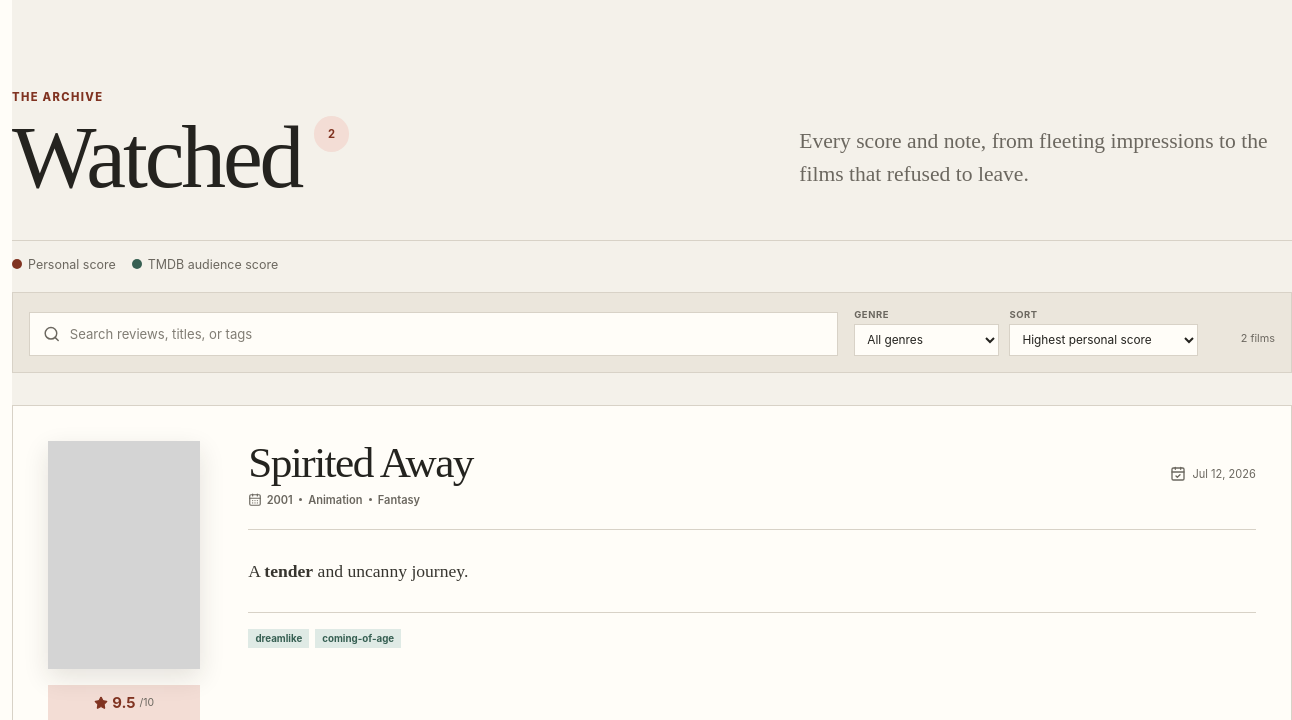
it: journal views › searches the watched archive across review content
Type "dreamlike" into the search field at point(447, 334), box [70, 326, 824, 342]
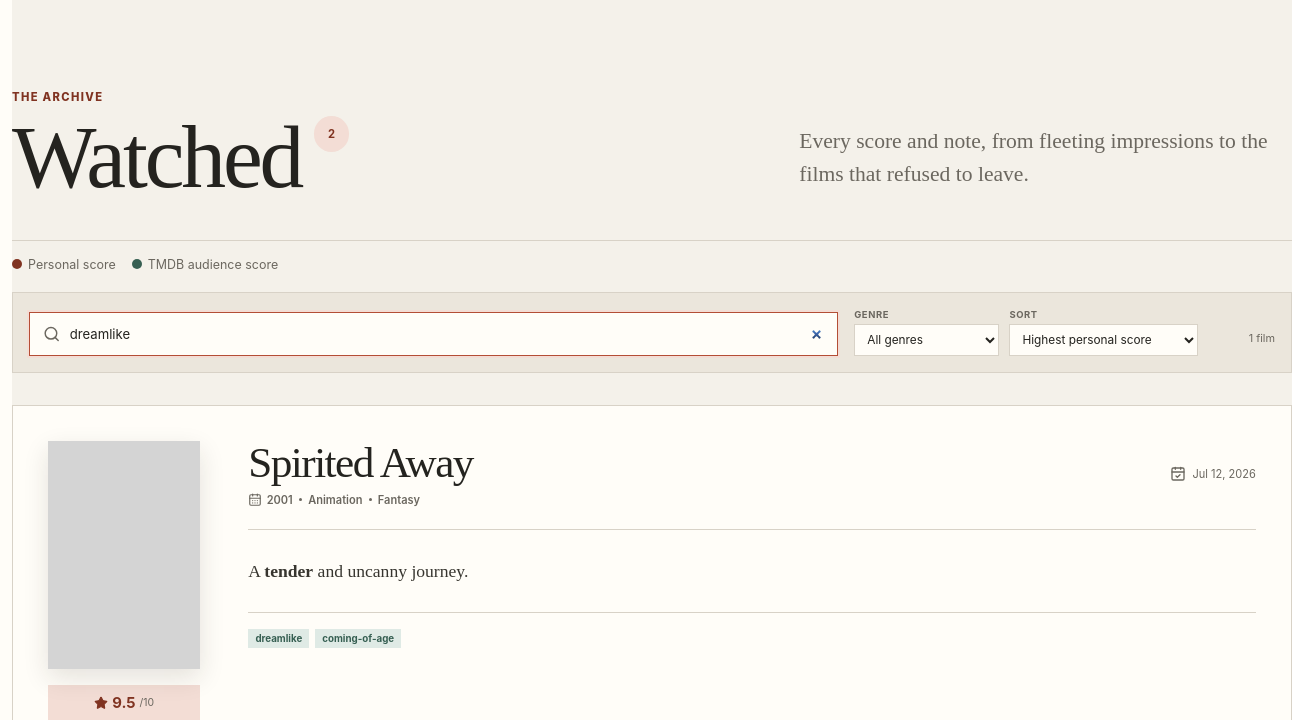
Expected: the heading "Spirited Away" is shown, [248, 441, 473, 484]
Result: the text "1 film" is shown at [1249, 331, 1275, 345]
